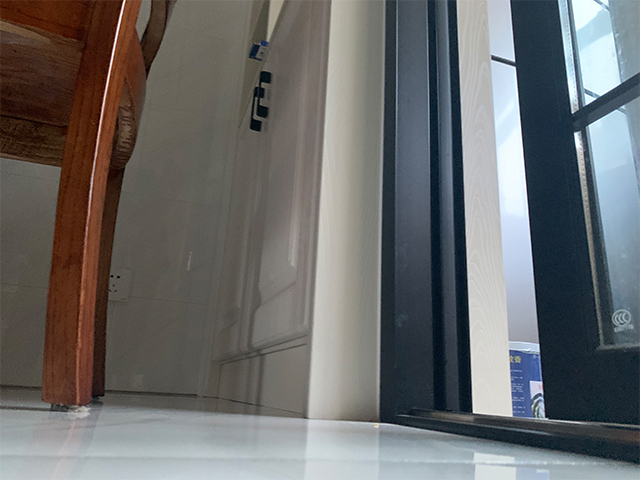cabinet: (198, 1, 387, 424)
